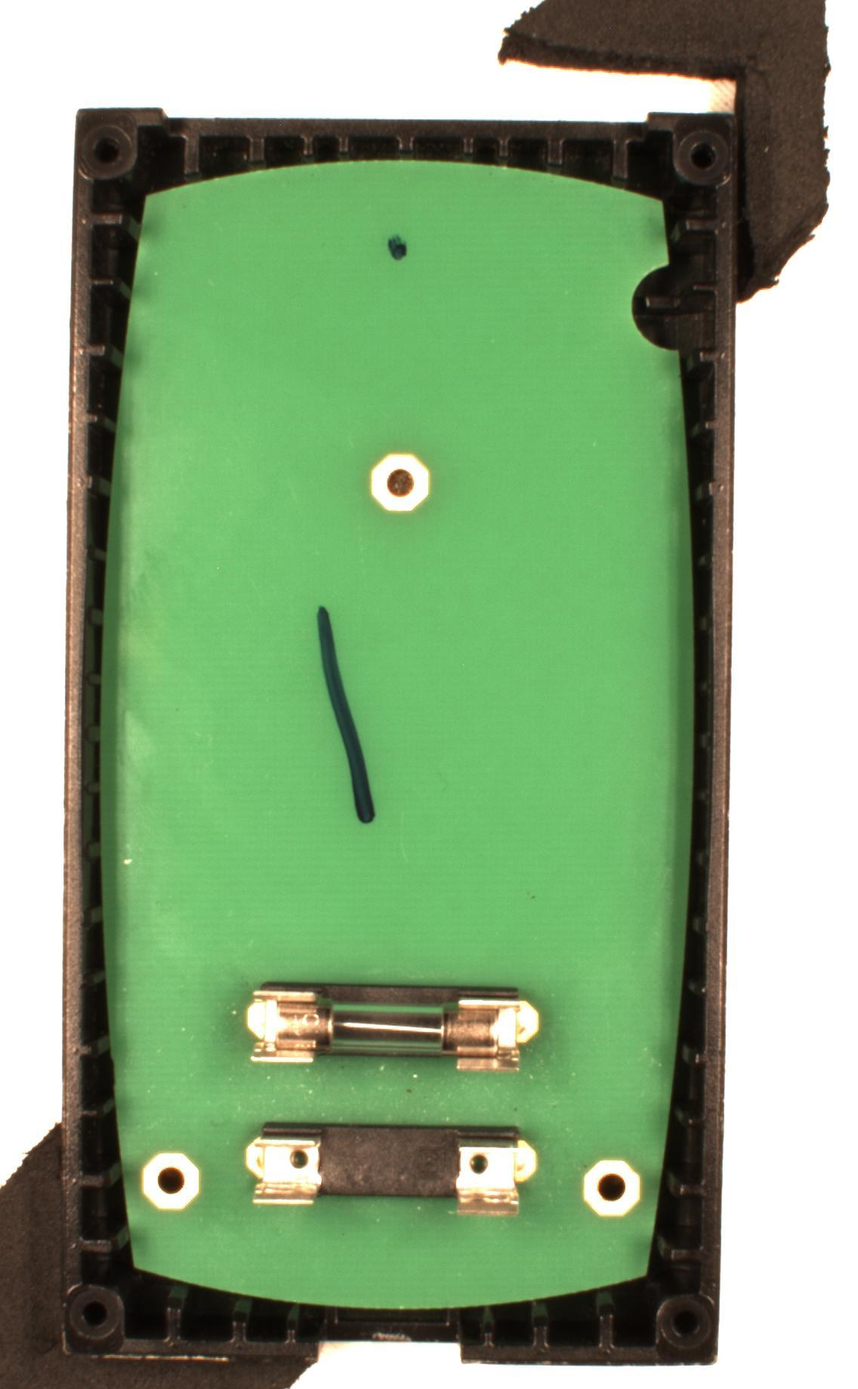Linijsko Ostecene: (312, 603, 383, 835)
Nepostojanje osiguraca: (244, 1112, 539, 1223)
Tockasto Ostecenje: (383, 228, 417, 269)
